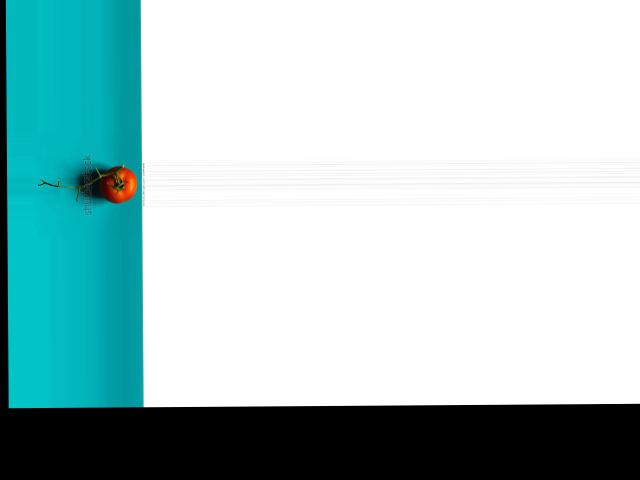tomato: (100, 165, 136, 203)
